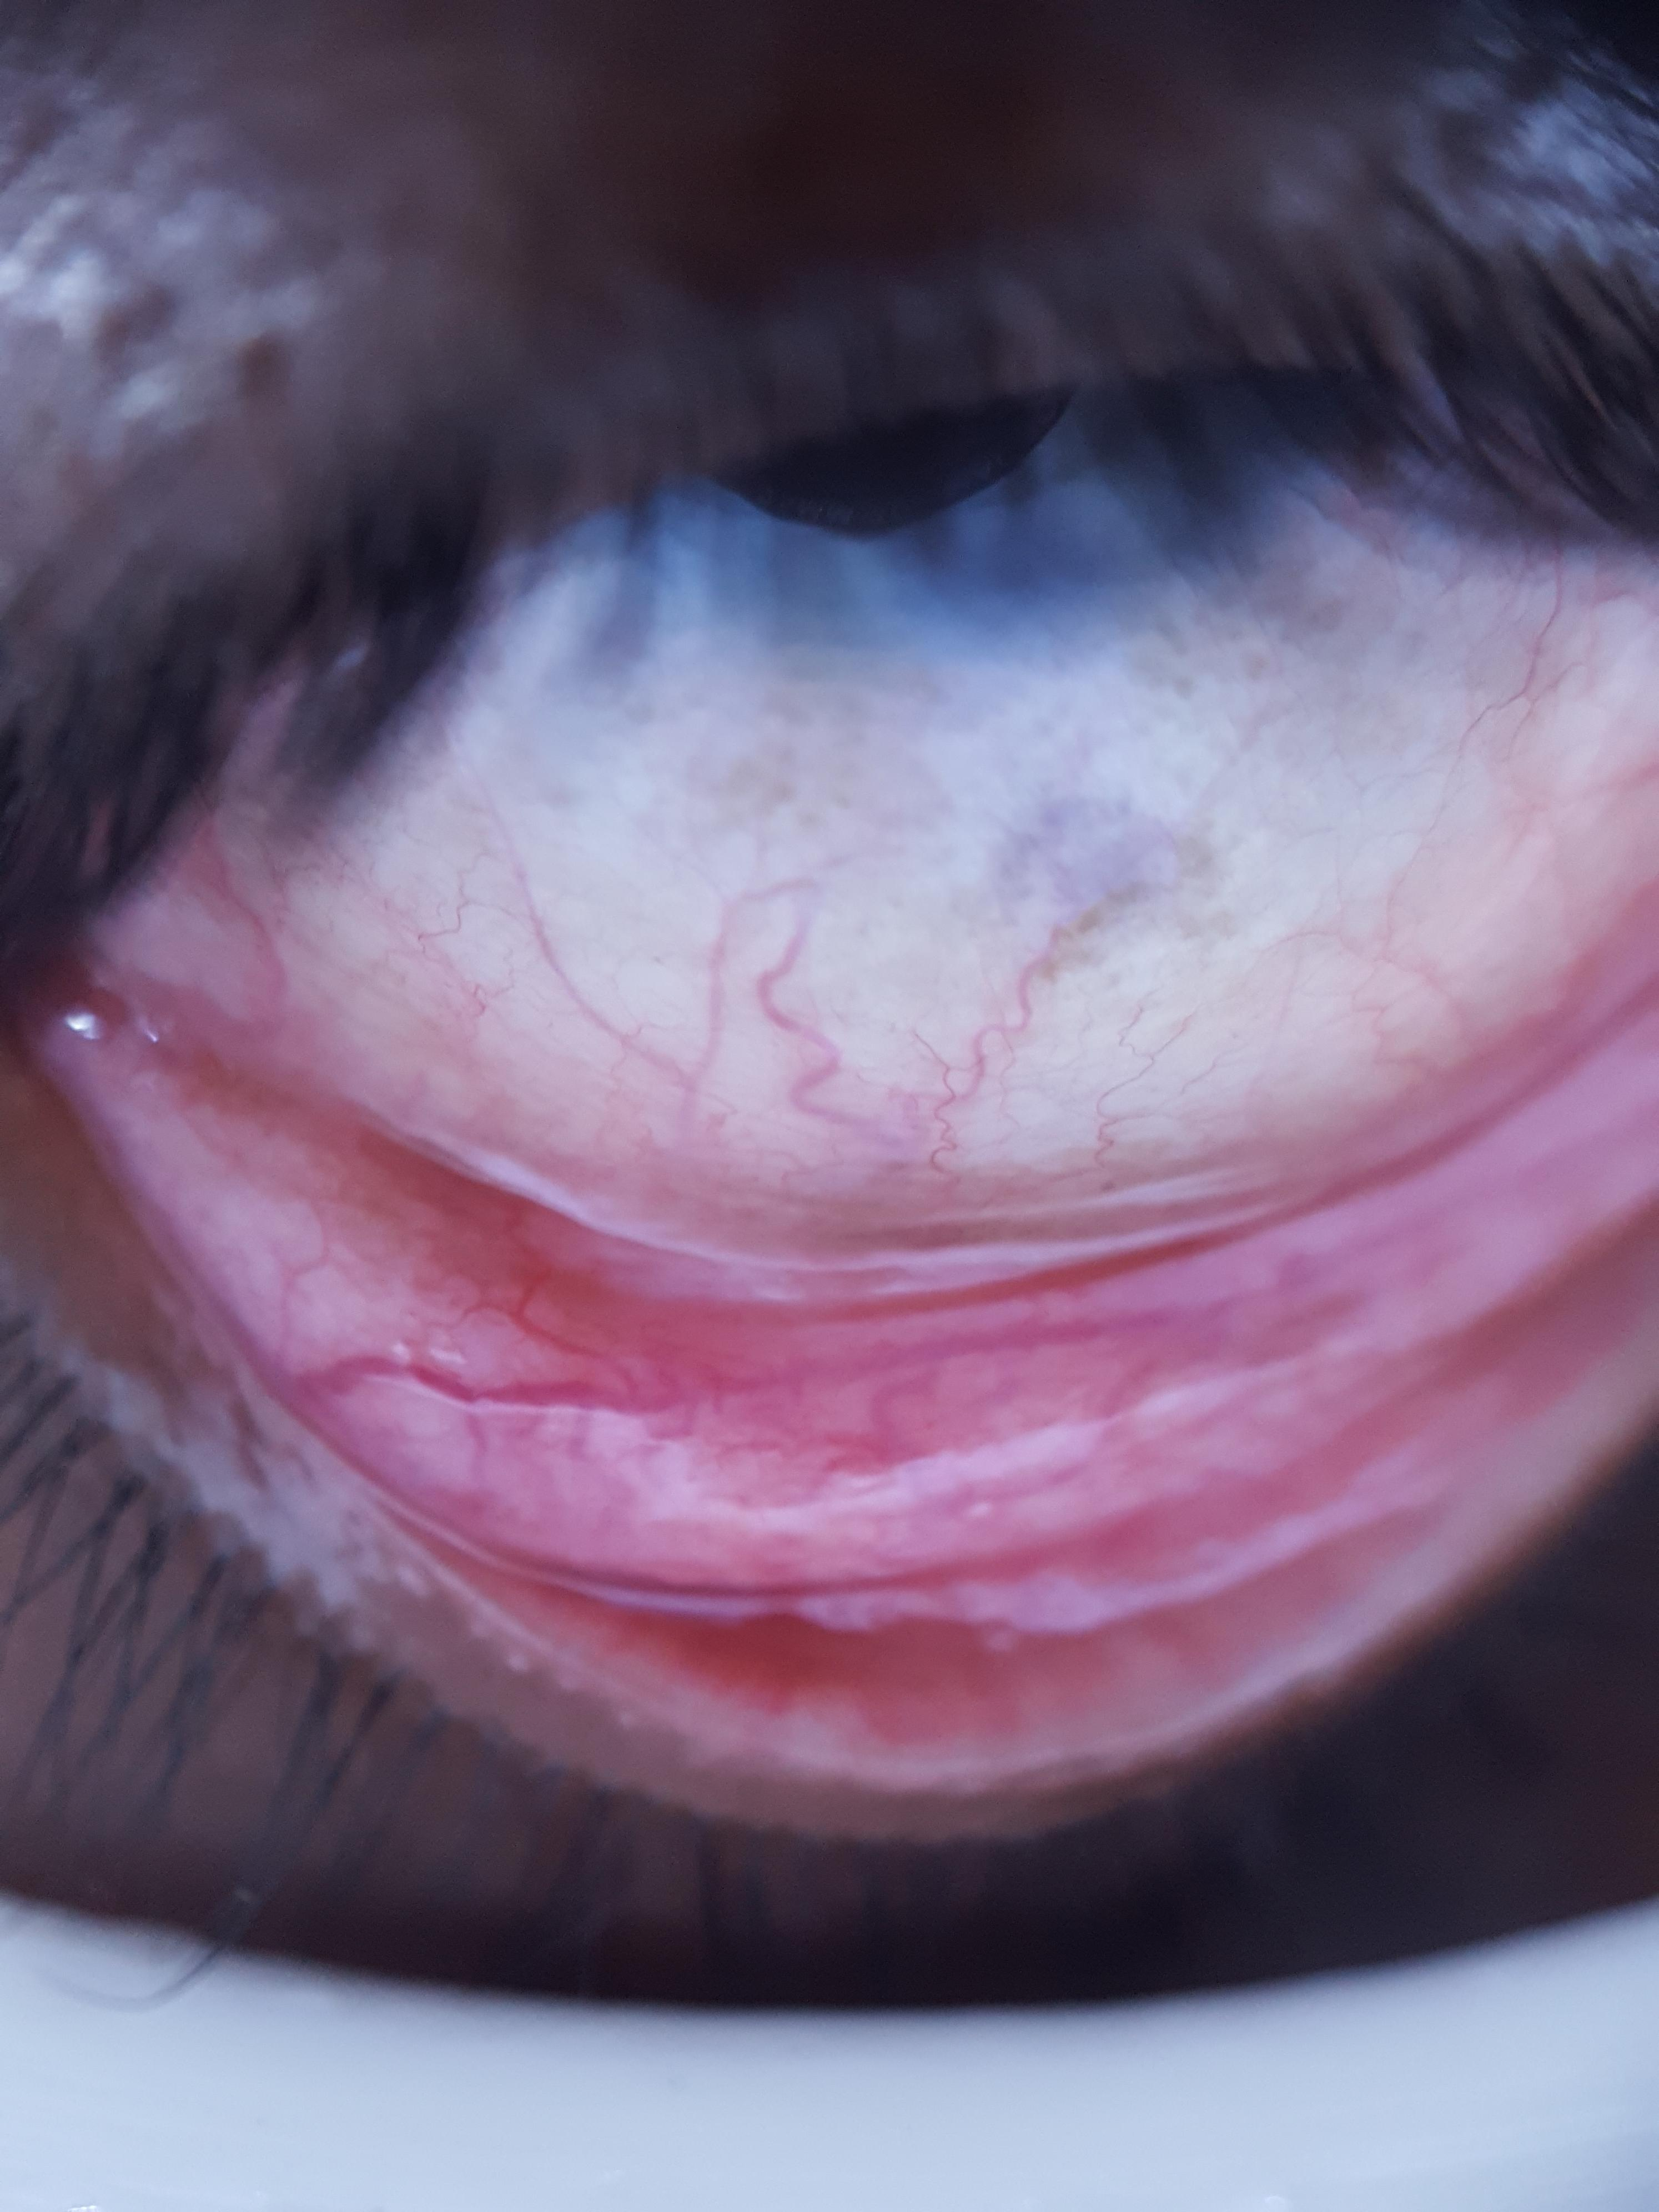forniceal: (37, 939, 1659, 1588)
forniceal_palpebral: (14, 916, 1659, 1771)
palpebral: (364, 1205, 1657, 1749)
